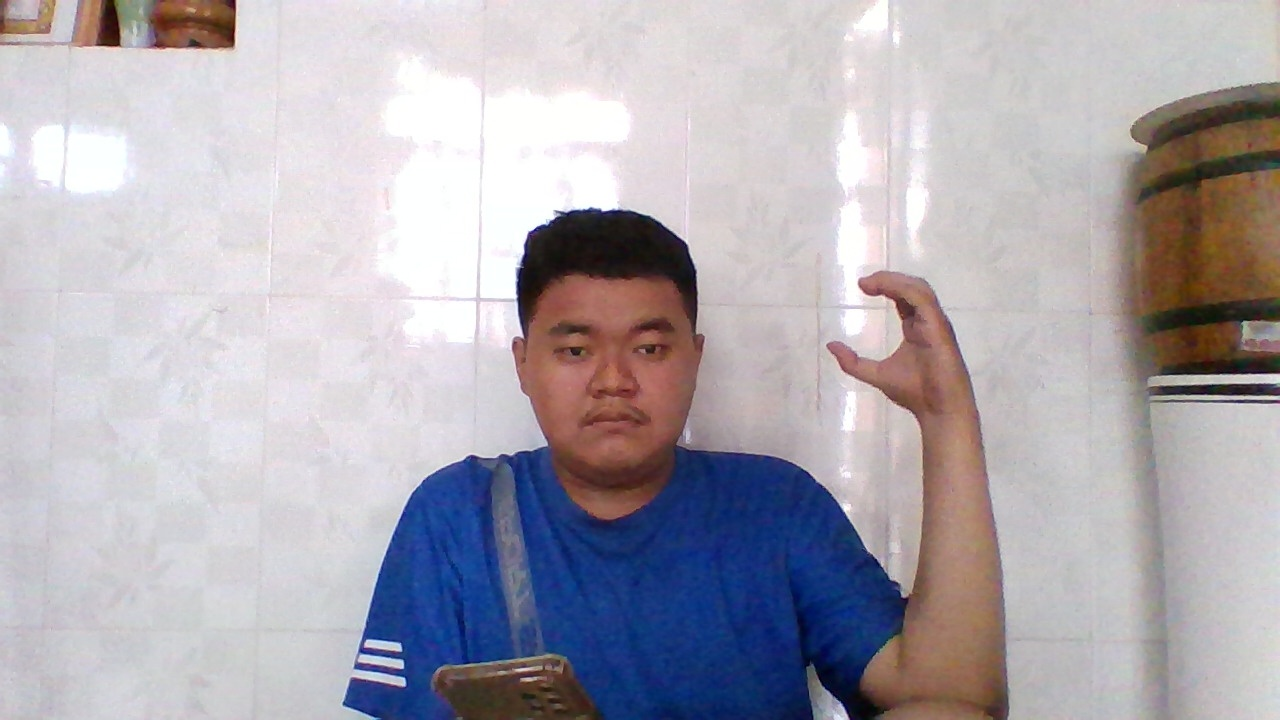C: (818, 260, 951, 428)
